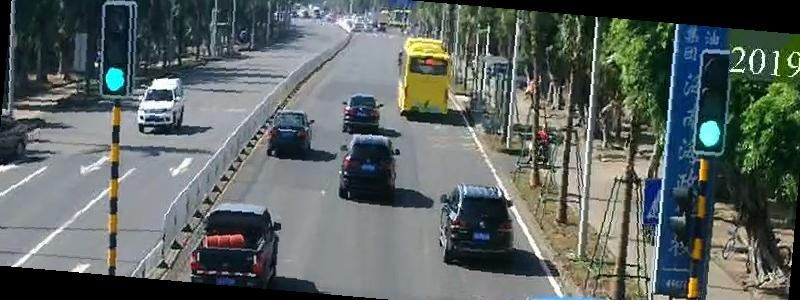green: (693, 118, 723, 154), (102, 62, 124, 93)
